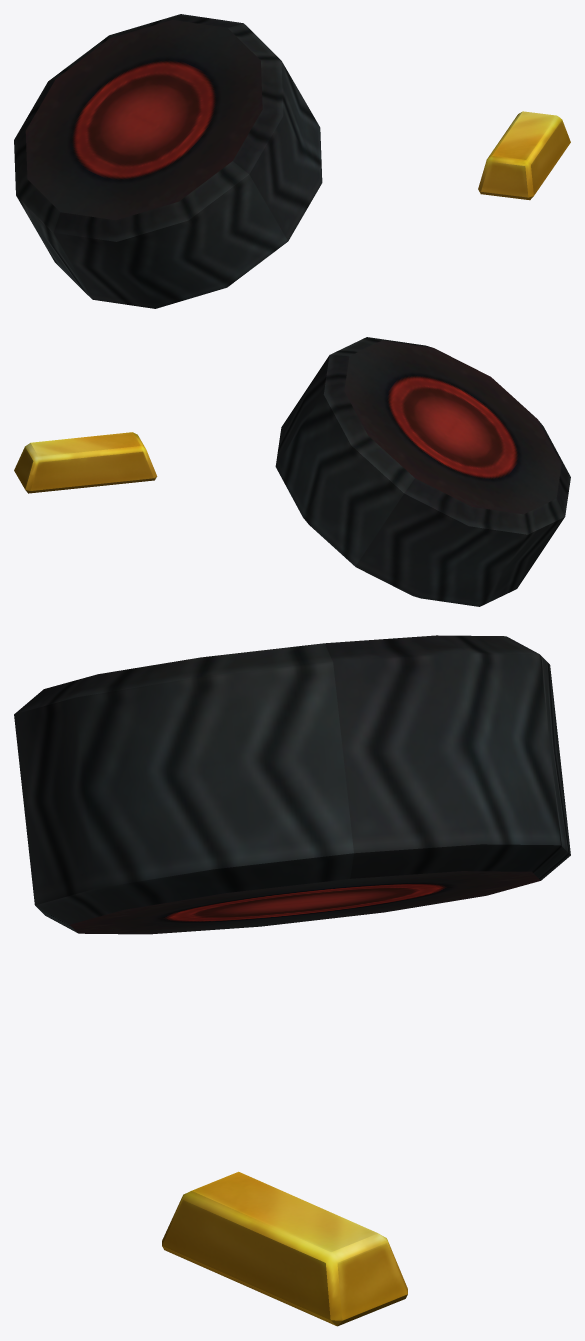
Rendered from yunchaoche_SanJian.FBX.
The picture shows the model from 3 angles, top to bottom: view 1: azimuth 30°, elevation 25°; view 2: azimuth 150°, elevation 25°; view 3: azimuth 270°, elevation 25°; orthographic projection. The views are drawn at different scales.
Parts seen in each view (by area): view 1: 对象02, 对象01; view 2: 对象02, 对象01; view 3: 对象02, 对象01.
Boxes of the visible parts, <box> form: 对象02: <box>14,14,322,308</box>; 对象01: <box>478,111,570,200</box>; 对象02: <box>275,337,570,606</box>; 对象01: <box>14,432,157,493</box>; 对象02: <box>14,635,570,934</box>; 对象01: <box>162,1171,407,1326</box>.
Bounding box in the file's own units: 44.46 × 21.39 × 17.22.
